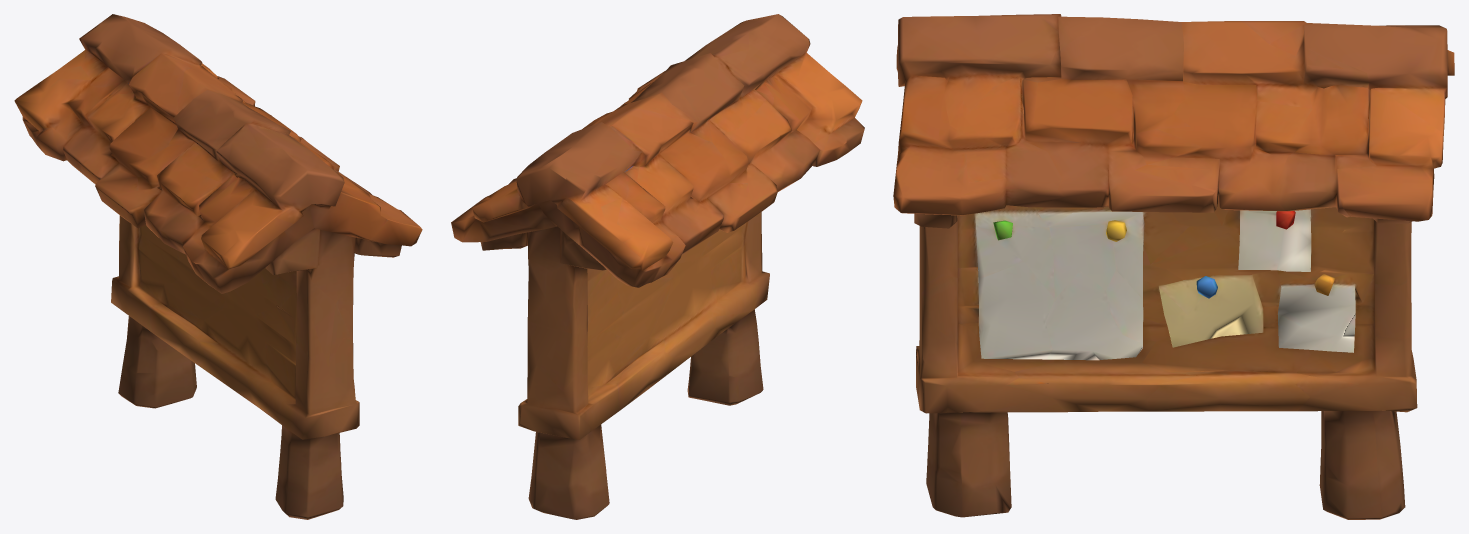
The model's file is notice-board.glb.
3 renders of one model, left to right at view 1: azimuth 30°, elevation 25°; view 2: azimuth 150°, elevation 25°; view 3: azimuth 270°, elevation 25°, orthographic. The views are drawn at different scales.
Parts seen in each view (by area): view 1: tripo_node_9f5b5399-b30d-4151-9e7f-ec94fa2d1f08; view 2: tripo_node_9f5b5399-b30d-4151-9e7f-ec94fa2d1f08; view 3: tripo_node_9f5b5399-b30d-4151-9e7f-ec94fa2d1f08.
Boxes of the visible parts, bbox=[...] form: tripo_node_9f5b5399-b30d-4151-9e7f-ec94fa2d1f08: bbox=[14, 14, 422, 519]; tripo_node_9f5b5399-b30d-4151-9e7f-ec94fa2d1f08: bbox=[451, 14, 864, 519]; tripo_node_9f5b5399-b30d-4151-9e7f-ec94fa2d1f08: bbox=[893, 14, 1454, 519].
Size of the model in its own units: 0.5579 by 0.925 by 1.
Materials: 1 (1 with a texture image).
